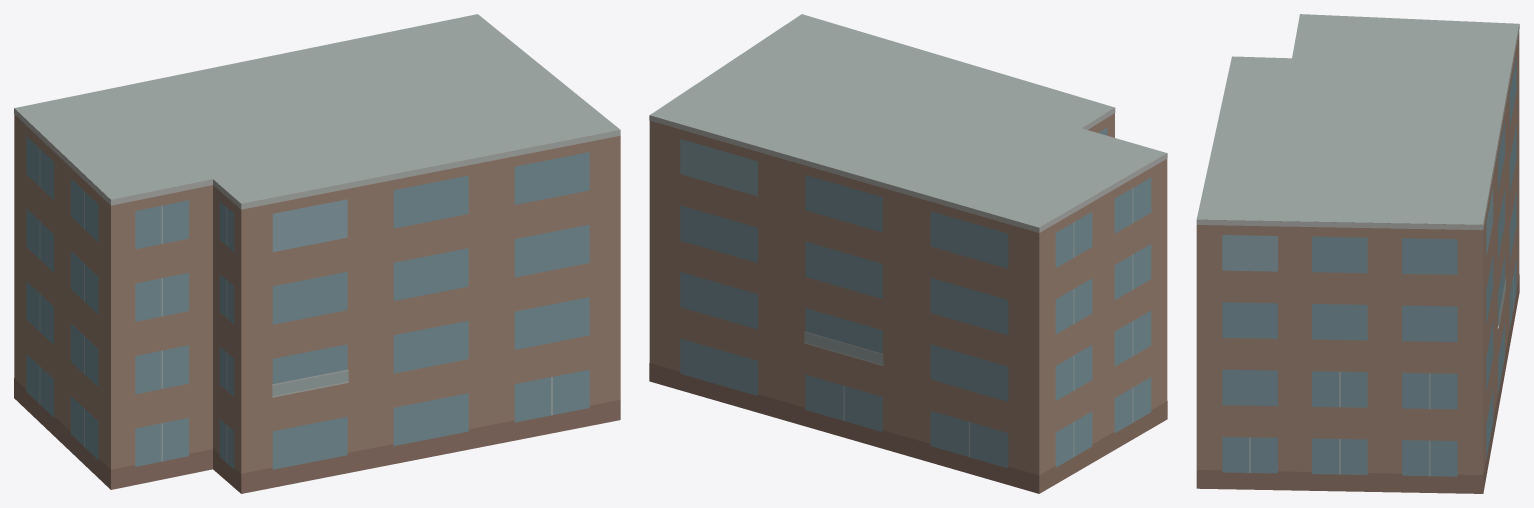
Rendered from survey-upis-32643664.glb.
3 views of the same model, side by side, from view 1: azimuth 30°, elevation 25°; view 2: azimuth 150°, elevation 25°; view 3: azimuth 270°, elevation 25° (orthographic). The views are drawn at different scales.
Visible parts, largest first — view 1: survey-upis-32643664.tmp; view 2: survey-upis-32643664.tmp; view 3: survey-upis-32643664.tmp.
Boxes of the visible parts, left/top/right/bottom form: survey-upis-32643664.tmp: left=14, top=14, right=620, bottom=493; survey-upis-32643664.tmp: left=649, top=14, right=1167, bottom=493; survey-upis-32643664.tmp: left=1196, top=14, right=1519, bottom=493.
Bounding box in the file's own units: 20.5 × 12.2 × 13.27.
